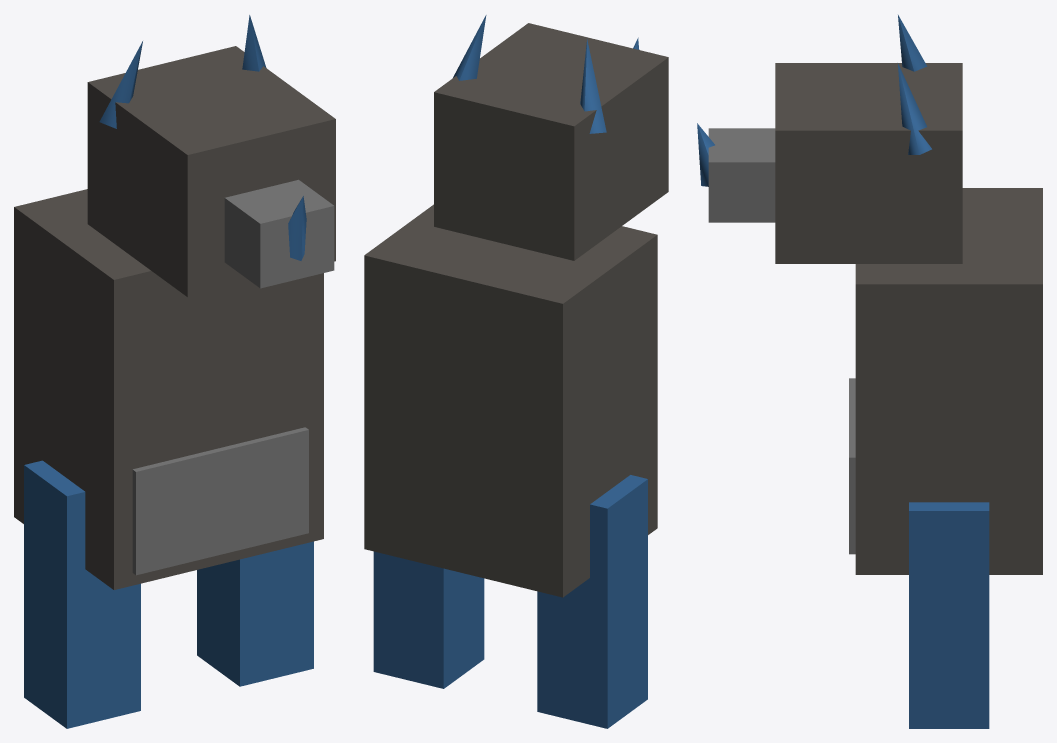
The model's file is IlvanaWolfB.glb.
The picture shows the model from 3 angles, left to right: view 1: azimuth 30°, elevation 25°; view 2: azimuth 150°, elevation 25°; view 3: azimuth 270°, elevation 25°; orthographic projection. The views are drawn at different scales.
Parts seen in each view (by area): view 1: ElvinWolfBody; view 2: ElvinWolfBody; view 3: ElvinWolfBody.
Part boxes in pixels (x1=…): ElvinWolfBody: x1=14, y1=15, x2=335, y2=728; ElvinWolfBody: x1=364, y1=15, x2=668, y2=728; ElvinWolfBody: x1=697, y1=15, x2=1042, y2=728.
Bounding box in the file's own units: 0.4 × 1.05 × 0.5171.
